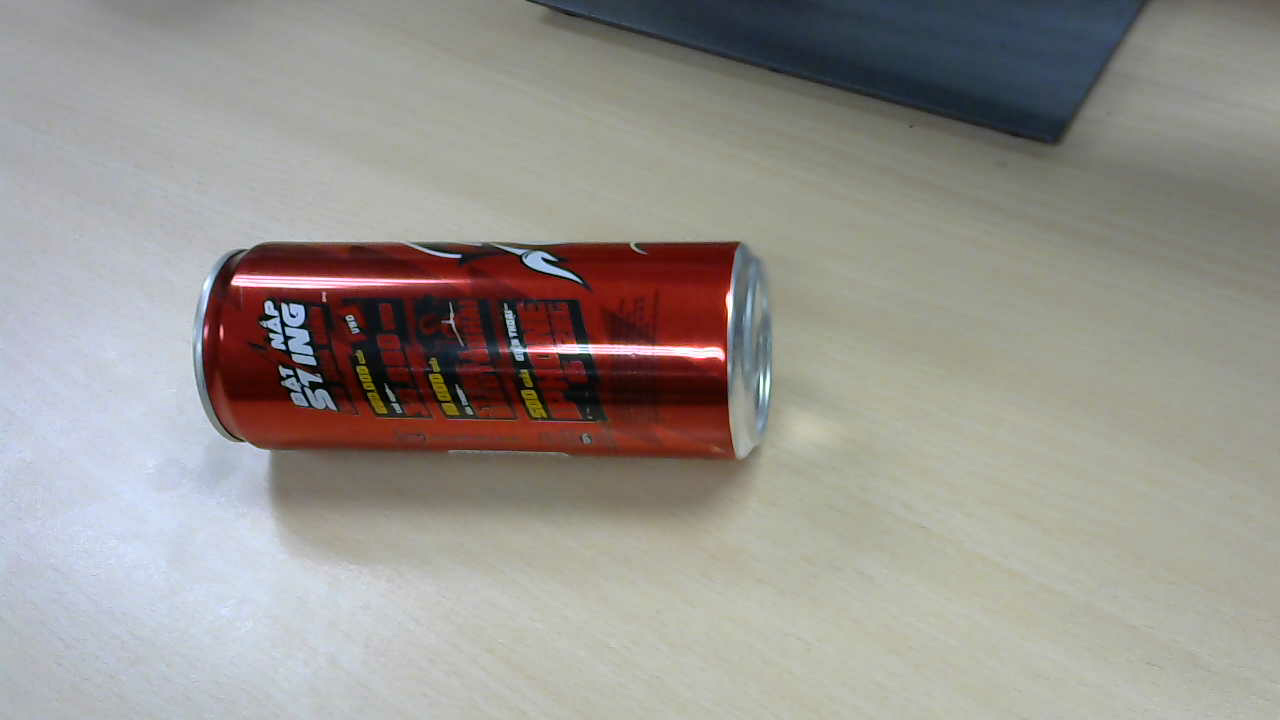Sting: (189, 242, 783, 469)
